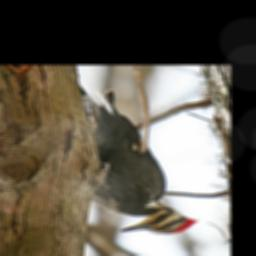Woodpecker: (77, 84, 199, 235)
